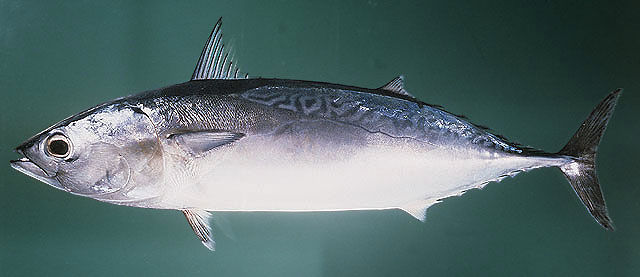fish: (11, 17, 621, 252)
